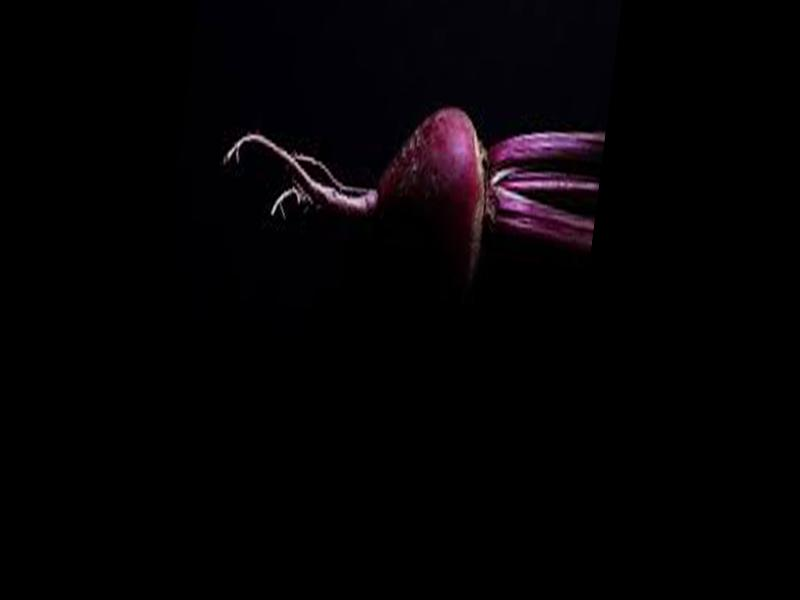Beet: (209, 68, 605, 317)
